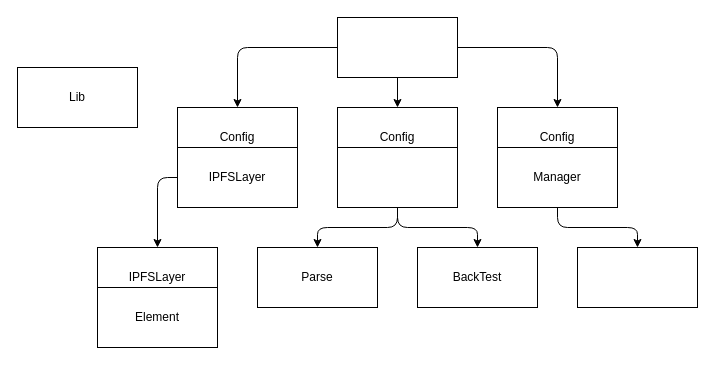
Image size: 715x365. Some labels were removed from this diagram. Each missing label, with the box of its shape:
Crawl: (576, 246, 698, 308)
Selector: (336, 146, 458, 208)
stockgo: (336, 16, 458, 78)
